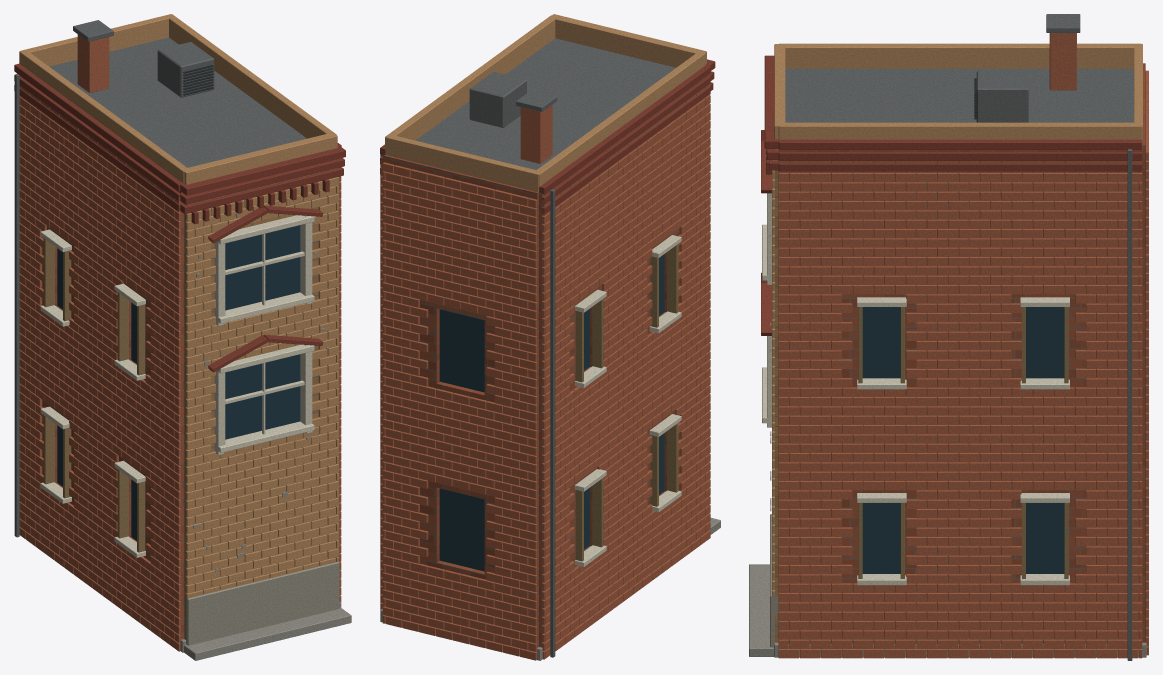
File: VICT19_lod0.glb
3 views of the same model, side by side, from view 1: azimuth 30°, elevation 25°; view 2: azimuth 150°, elevation 25°; view 3: azimuth 270°, elevation 25° (orthographic). The views are drawn at different scales.
Visible parts, largest first — view 1: VICT19_LOD0; view 2: VICT19_LOD0; view 3: VICT19_LOD0.
Boxes of the visible parts, <box> form: VICT19_LOD0: <box>14,14,351,660</box>; VICT19_LOD0: <box>380,14,720,660</box>; VICT19_LOD0: <box>749,14,1148,660</box>.
Size of the model in its own units: 3.71 by 10.45 by 6.6.
Materials: 17 (15 with a texture image).
